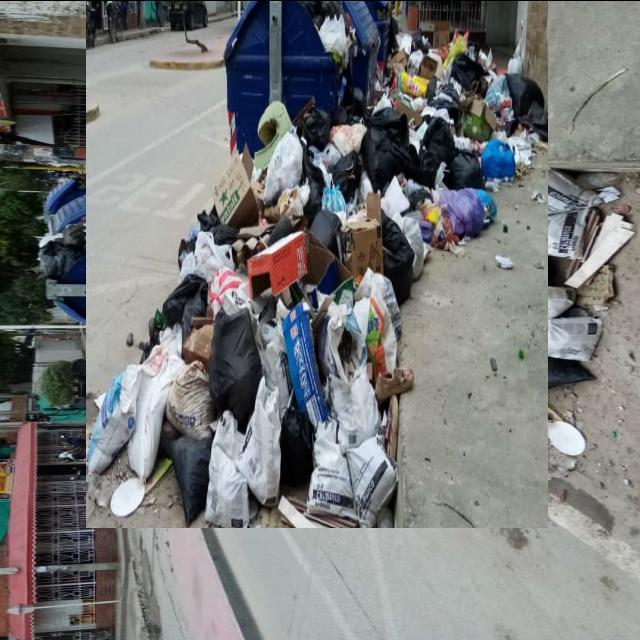Trashbag: (208, 309, 263, 418), (363, 104, 416, 192), (376, 210, 416, 310), (172, 432, 216, 516), (163, 272, 213, 340), (281, 410, 320, 488), (409, 126, 461, 184), (505, 68, 544, 131), (449, 51, 486, 101), (310, 209, 346, 260), (452, 149, 489, 195), (330, 152, 362, 199)
